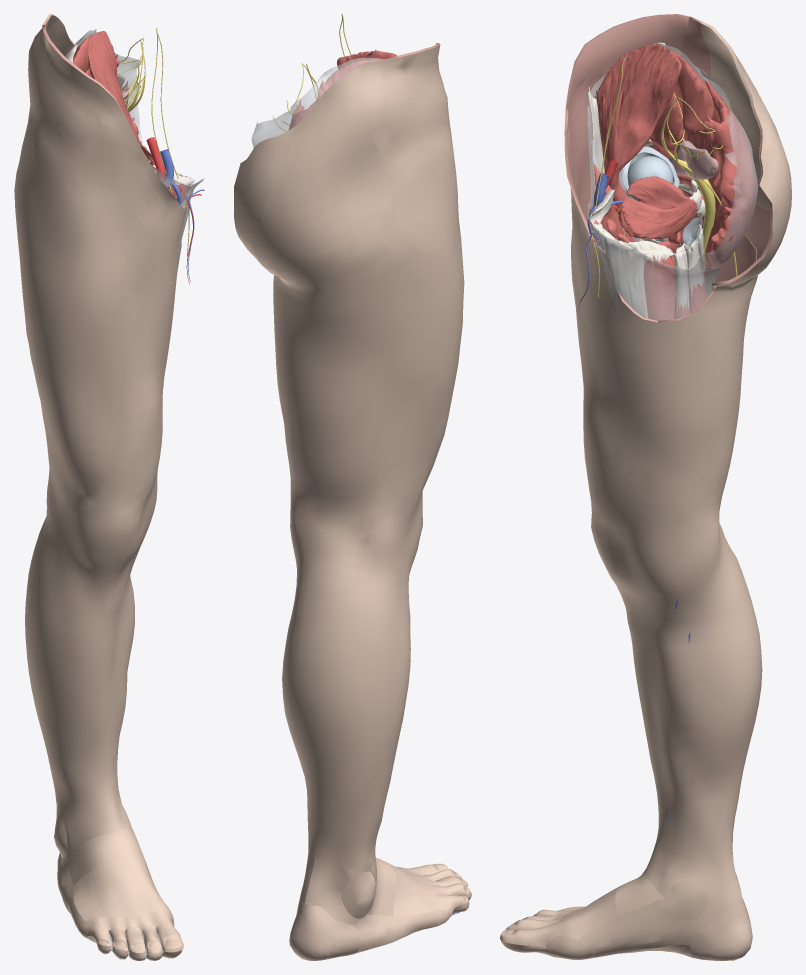
Rendered from lower_limb_r.glb.
3 views of the same model, side by side, from view 1: azimuth 30°, elevation 25°; view 2: azimuth 150°, elevation 25°; view 3: azimuth 270°, elevation 25° (orthographic). The views are drawn at different scales.
Visible parts, largest first — view 1: anterior_region_of_thigh_r, anterior_region_of_leg_r, anterior_region_of_knee_r, metatarsal_region_r, hip_region_r, dorsal_surfaces_of_digits_of_foot_r, anterior_region_of_ankle_r, femoral_triangle_r, posterior_region_of_leg_r, dorsum_of_foot_r, gluteal_region_r, iliacus_muscle_r (+6 smaller); view 2: posterior_region_of_thigh_r, gluteal_region_r, posterior_region_of_leg_r, posterior_region_of_knee_r, anterior_region_of_thigh_r, hip_region_r, heel_region_r, popliteal_fossa_r, lateral_retromalleolar_region_r, lateral_border_of_foot_r, fascia_lata_r, metatarsal_region_r (+6 smaller); view 3: anterior_region_of_thigh_r, posterior_region_of_thigh_r, posterior_region_of_leg_r, anterior_region_of_leg_r, fascia_lata_r, gluteal_region_r, iliacus_muscle_r, anterior_region_of_knee_r, gluteus_maximus_muscle_r, posterior_region_of_knee_r, medial_border_of_foot_r, obturator_internus_r (+21 smaller).
Boxes of the visible parts, x1,y1,x2,y2 form: anterior_region_of_thigh_r: (27,24,188,501); anterior_region_of_leg_r: (37,569,134,801); anterior_region_of_knee_r: (48,469,157,593); metatarsal_region_r: (73,859,168,921); hip_region_r: (14,135,61,239); dorsal_surfaces_of_digits_of_foot_r: (85,907,183,952); anterior_region_of_ankle_r: (55,789,132,854); femoral_triangle_r: (135,136,182,276); posterior_region_of_leg_r: (25,550,61,794); dorsum_of_foot_r: (63,828,147,885); gluteal_region_r: (15,14,125,184); iliacus_muscle_r: (88,31,140,145); posterior_region_of_thigh_r: (273,248,448,513); gluteal_region_r: (234,57,427,291); posterior_region_of_leg_r: (282,599,404,859); posterior_region_of_knee_r: (290,491,411,616); anterior_region_of_thigh_r: (392,43,464,503); hip_region_r: (395,149,457,254); heel_region_r: (289,897,360,960); popliteal_fossa_r: (295,506,370,550); lateral_retromalleolar_region_r: (305,858,365,924); lateral_border_of_foot_r: (353,908,450,951); fascia_lata_r: (251,57,382,147); metatarsal_region_r: (385,861,440,916); anterior_region_of_thigh_r: (565,14,689,525); posterior_region_of_thigh_r: (657,235,757,525); posterior_region_of_leg_r: (685,585,762,860); anterior_region_of_leg_r: (626,609,696,858); fascia_lata_r: (587,45,757,320); gluteal_region_r: (680,16,791,287); iliacus_muscle_r: (596,43,681,242); anterior_region_of_knee_r: (591,501,684,623); gluteus_maximus_muscle_r: (675,80,755,269); posterior_region_of_knee_r: (665,513,747,621); medial_border_of_foot_r: (577,899,706,957); obturator_internus_r: (621,176,701,239).
Bounding box in the file's own units: 0.1825 × 1.02 × 0.294.
